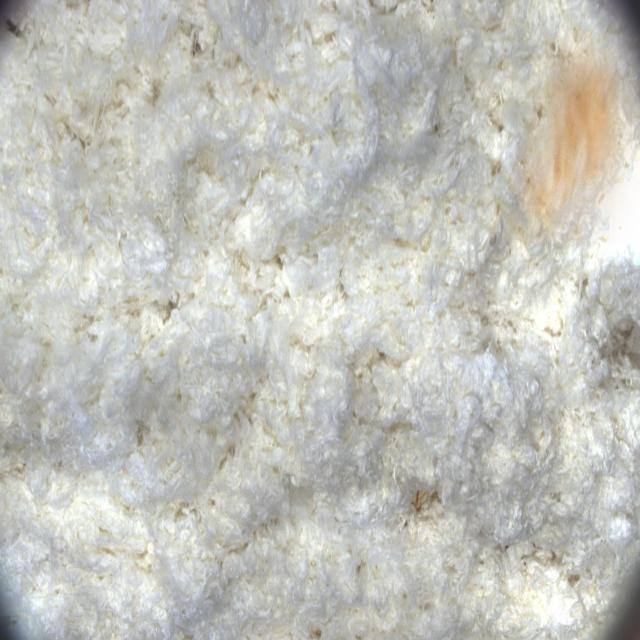dust: (509, 29, 640, 243)
